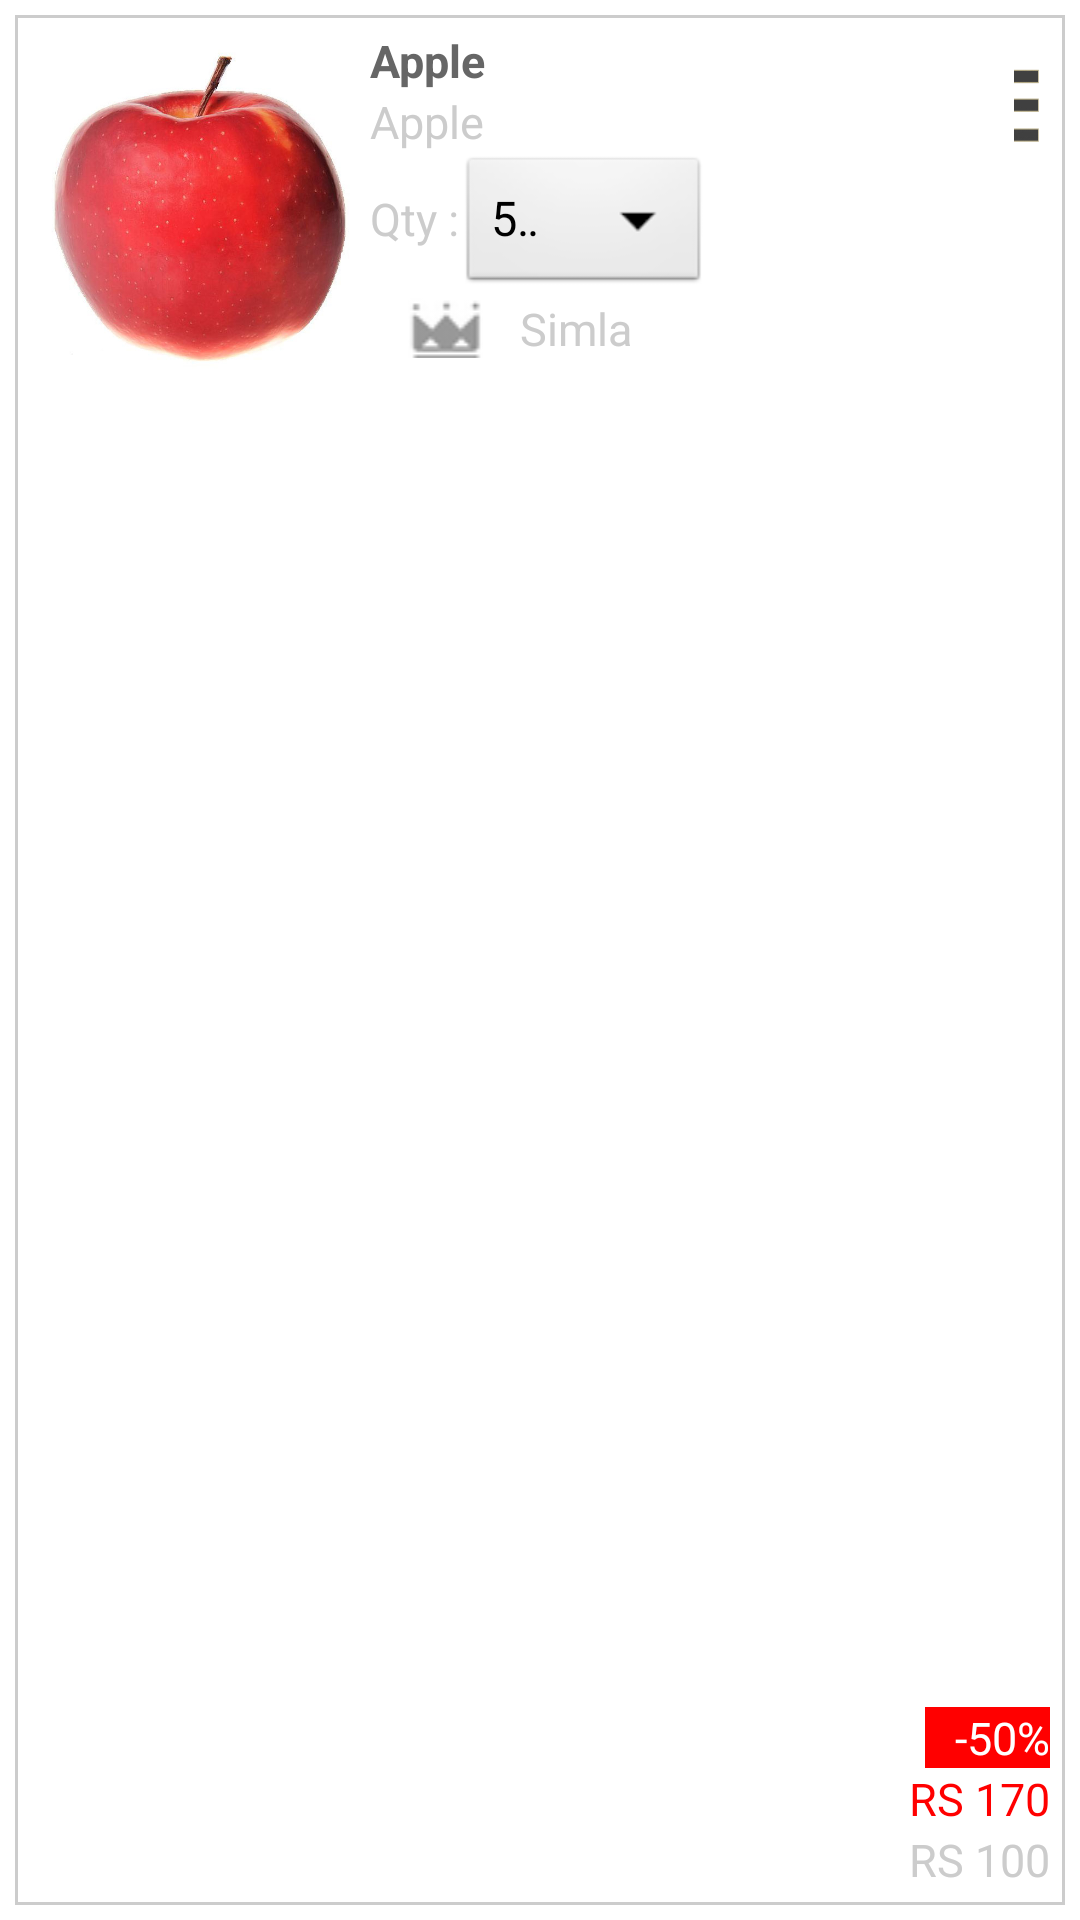

Named icons in this screenshot (1080*1920) and their centers, (x=x, y=y):
brands: (x=446, y=330)
menu: (x=1026, y=106)
